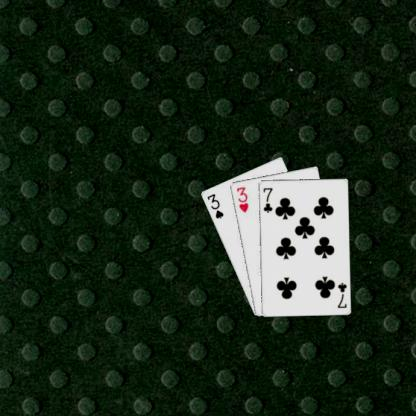3H: (234, 184, 250, 213)
3S: (204, 191, 225, 220)
7C: (260, 184, 274, 214), (334, 280, 348, 309)
